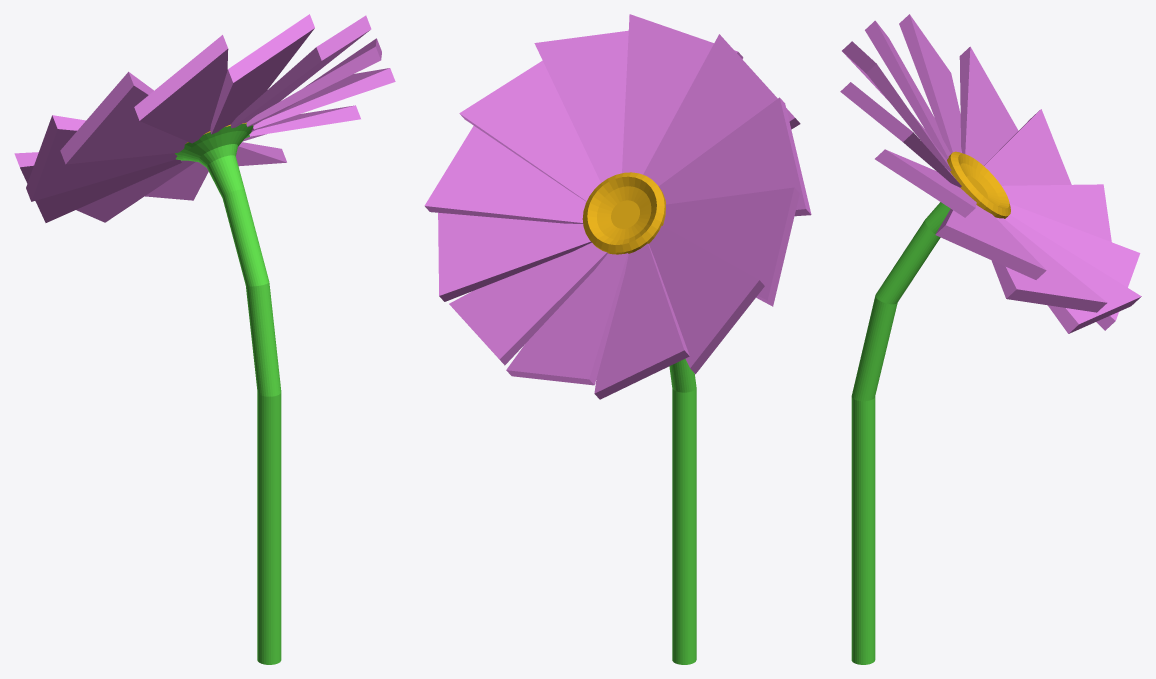
Rendered from Kwiatek2.fbx.
The picture shows the model from 3 angles, left to right: view 1: azimuth 30°, elevation 25°; view 2: azimuth 150°, elevation 25°; view 3: azimuth 270°, elevation 25°; orthographic projection. The views are drawn at different scales.
Parts seen in each view (by area): view 1: Circle; view 2: Circle; view 3: Circle.
Part boxes in pixels (x1,y1,x2,y2): Circle: (14, 14, 395, 664); Circle: (424, 14, 811, 664); Circle: (840, 14, 1141, 664).
Bounding box in the file's own units: 1022 × 1871 × 825.
